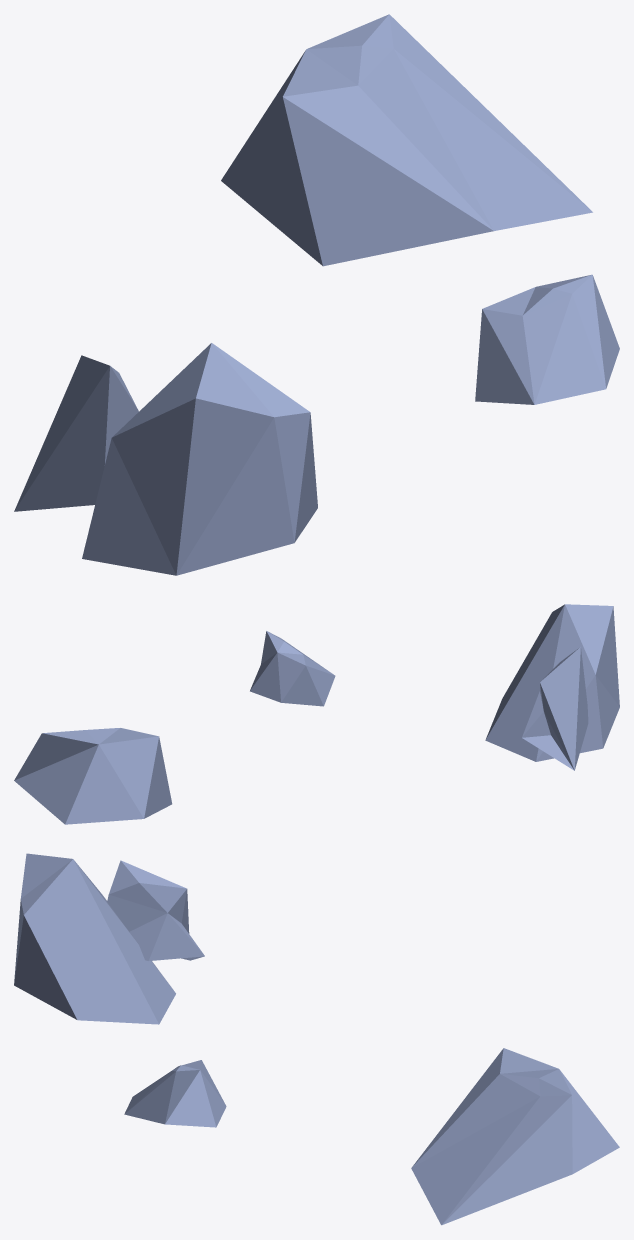
File: plane_ice_rock02.FBX
The picture shows the model from 3 angles, top to bottom: view 1: azimuth 30°, elevation 25°; view 2: azimuth 150°, elevation 25°; view 3: azimuth 270°, elevation 25°; orthographic projection. The views are drawn at different scales.
Visible parts, largest first — view 1: rock004; view 2: rock004; view 3: rock004.
Boxes of the visible parts, left/top/right/bottom form: rock004: left=14, top=14, right=619, bottom=575; rock004: left=14, top=604, right=619, bottom=824; rock004: left=14, top=853, right=619, bottom=1225.
Bounding box in the file's own units: 30.69 × 9.21 × 32.06.
Materials: 1 (1 with a texture image).
